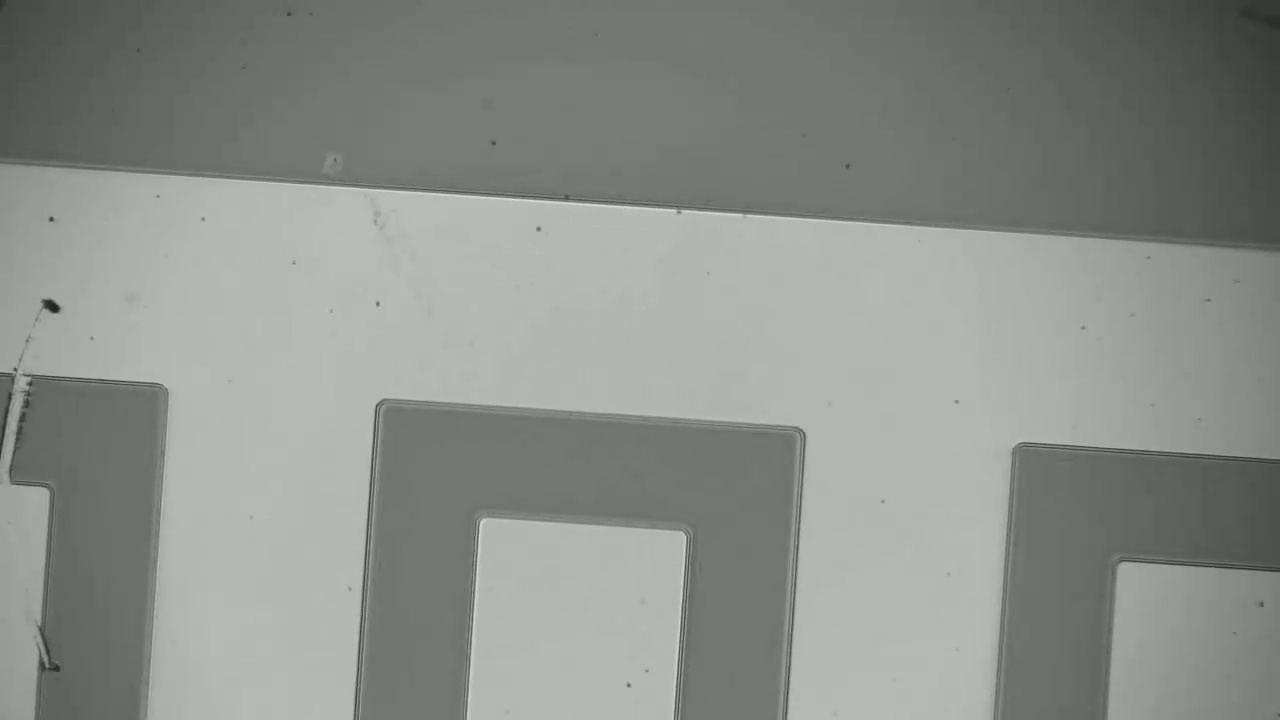Short_circuit: (0, 339, 42, 516)
